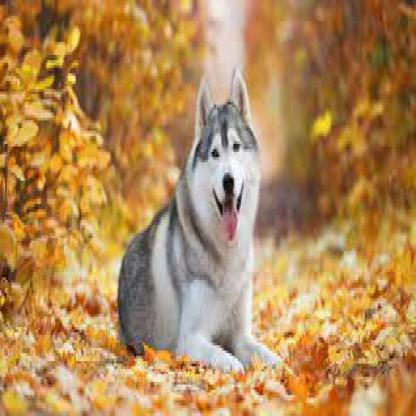dog: (117, 65, 292, 364)
